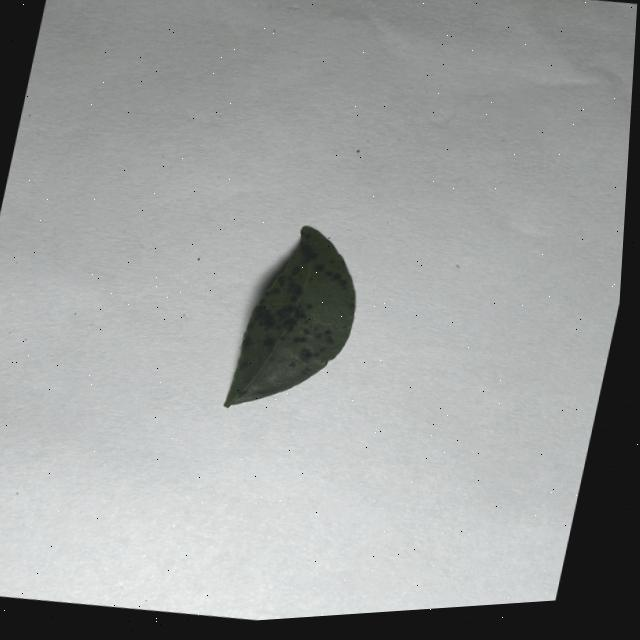sooty_mold: (225, 227, 355, 407)
